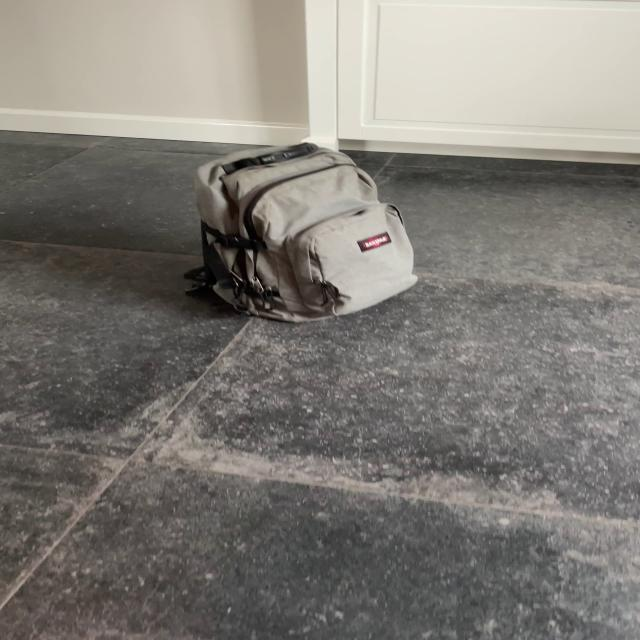backpack: (178, 136, 426, 328)
